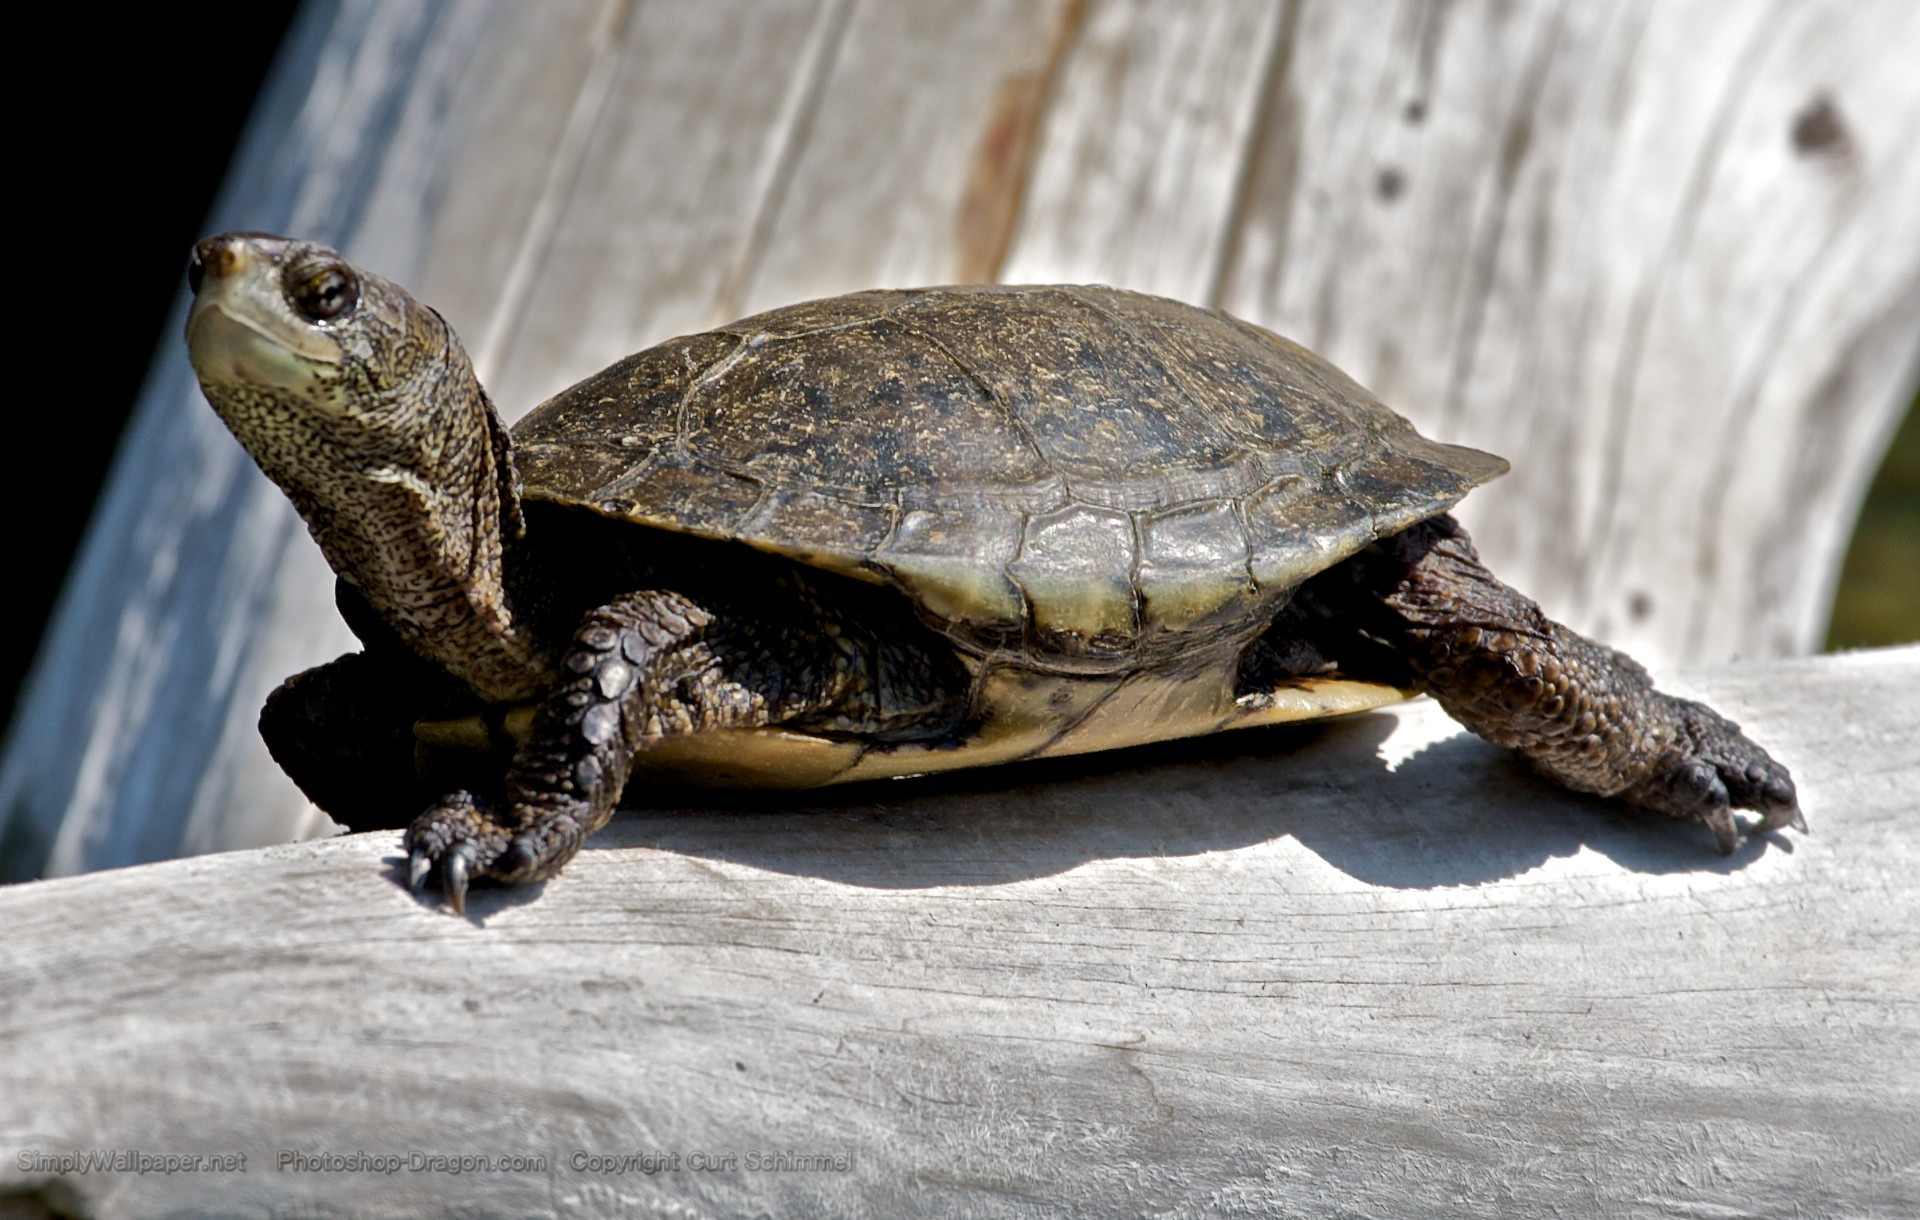eye: (281, 248, 371, 332)
mouth: (182, 297, 372, 414)
